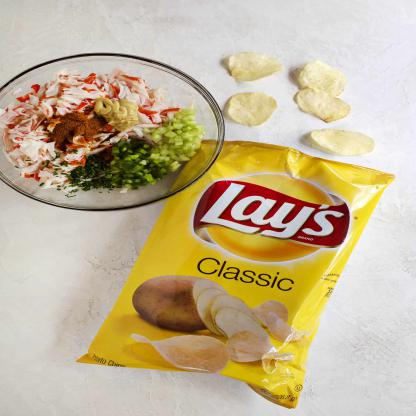potatochip: (67, 134, 402, 411)
